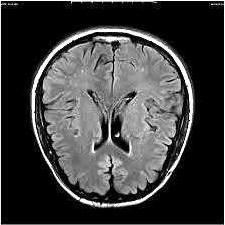Normal_Brain: (5, 5, 225, 225)
